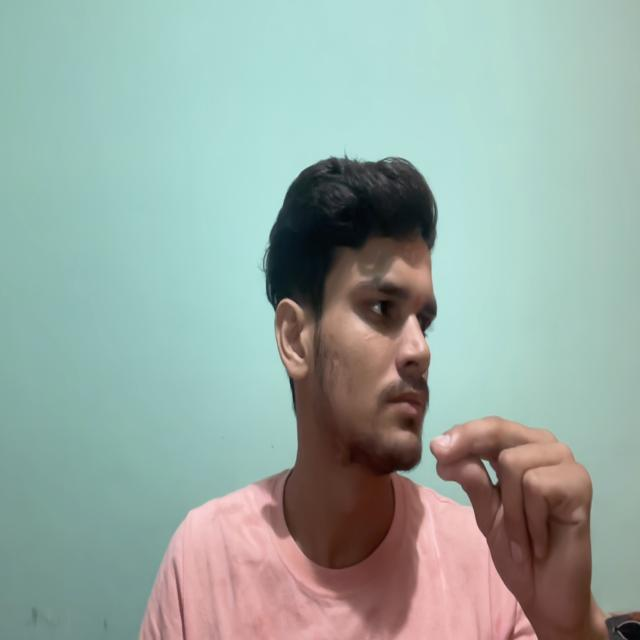No: (427, 382, 617, 636)
